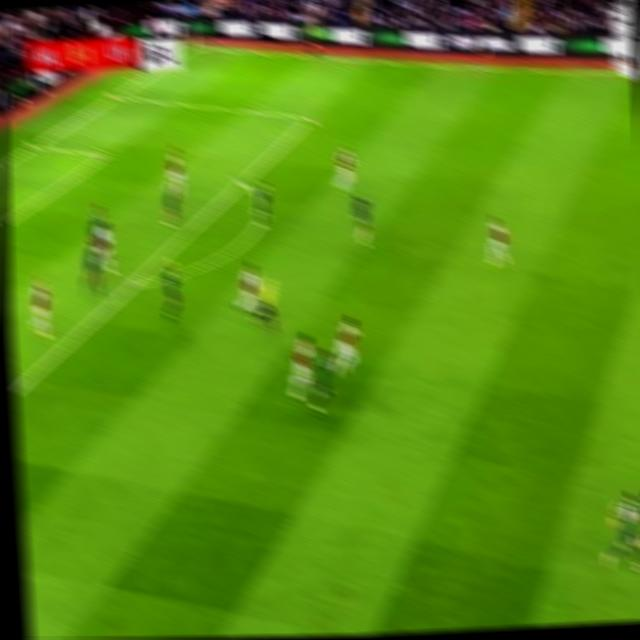bigarea_top_inner: (301, 108, 317, 125)
bigarea_top_outter: (106, 89, 122, 101)
bottom_arc_area_intersection: (124, 277, 141, 292)
corner: (189, 41, 204, 50)
smallarea_top_inner: (94, 146, 111, 162)
smallarea_top_outter: (25, 137, 42, 152)
top_arc_area_intersection: (232, 172, 249, 189)
